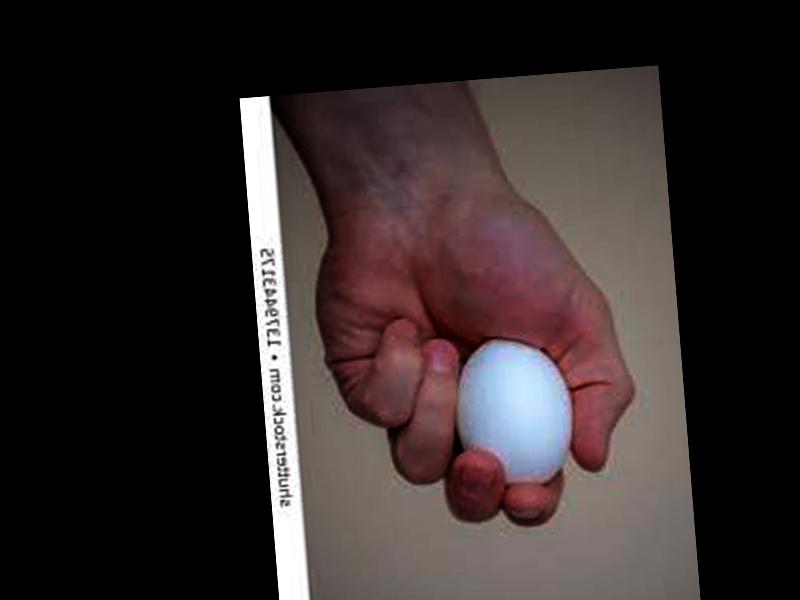Eggs: (451, 330, 577, 489)
